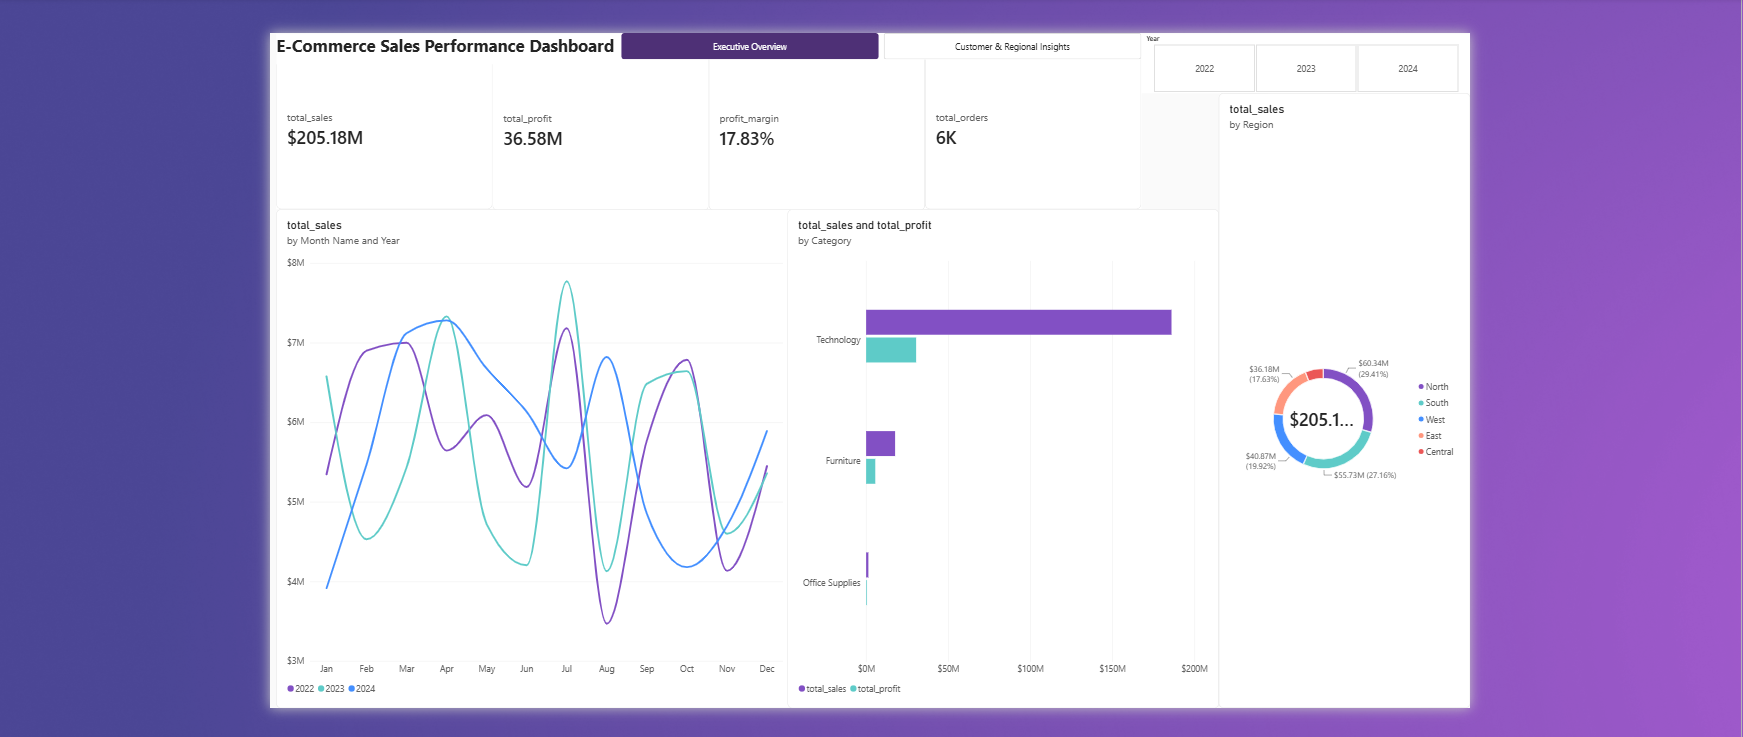

This screenshot's page, from the dashboard's own definition file:
{"tool":"powerbi","page":{"name":"Executive Overview","canvas":[1920,1080],"ordinal":0},"visuals":[{"type":"cardVisual","fields":{"Data":["_measures.total_sales"]},"box":[10,26,346,256],"z":0},{"type":"cardVisual","fields":{"Data":["_measures.total_profit"]},"box":[356,26,346,258],"z":1000},{"type":"cardVisual","fields":{"Data":["_measures.profit_margin"]},"box":[702,26,346,258],"z":2000},{"type":"cardVisual","fields":{"Data":["_measures.total_orders"]},"box":[1048,26,346,256],"z":3000},{"type":"slicer","fields":{"Values":["Dim_Date.Year"]},"box":[1394,2,526,94],"z":4000},{"type":"lineChart","fields":{"Category":["Dim_Date.Month Name"],"Series":["Dim_Date.Year"],"Y":["_measures.total_sales"]},"box":[10,282,828,798],"z":5000},{"type":"clusteredBarChart","fields":{"Category":["ecommerce_sales_data.Category"],"Y":["_measures.total_sales","_measures.total_profit"]},"box":[828,282,690,798],"z":6000},{"type":"donutChart","fields":{"Category":["ecommerce_sales_data.Region"],"Y":["_measures.total_sales"]},"box":[1518,96,402,984],"z":7000},{"type":"textbox","box":[10,2,642,48],"z":8000},{"type":"pageNavigator","box":[562,0,832,42],"z":8001}]}

Visuals, with their boxes on the page's 1920x1080 design canvas (x1, y1, x2, y2). These are canvas units, not pixel positions in the 1743x737 screenshot, which may show the page scaled, cropped or inside an application window:
cardVisual - _measures.total_sales: Rect(10, 26, 356, 282)
cardVisual - _measures.total_profit: Rect(356, 26, 702, 284)
cardVisual - _measures.profit_margin: Rect(702, 26, 1048, 284)
cardVisual - _measures.total_orders: Rect(1048, 26, 1394, 282)
slicer - Dim_Date.Year: Rect(1394, 2, 1920, 96)
lineChart - Dim_Date.Month Name x Dim_Date.Year: Rect(10, 282, 838, 1080)
clusteredBarChart - ecommerce_sales_data.Category x _measures.total_sales: Rect(828, 282, 1518, 1080)
donutChart - ecommerce_sales_data.Region x _measures.total_sales: Rect(1518, 96, 1920, 1080)
textbox: Rect(10, 2, 652, 50)
pageNavigator: Rect(562, 0, 1394, 42)
